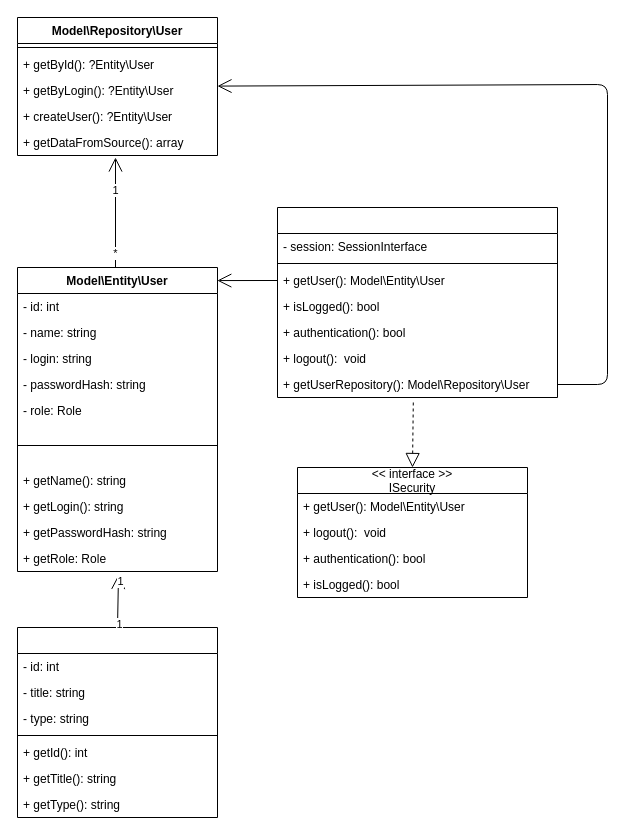
This 639x838 diagram has some shape labels left out. The shapes that lost their labels are listed below. From the top down, each one's box as (x1, y1, x2, y2) in pixels, then its label:
(276, 206, 558, 398): Service\User\Security
(16, 626, 218, 818): Model\Entity\Role
